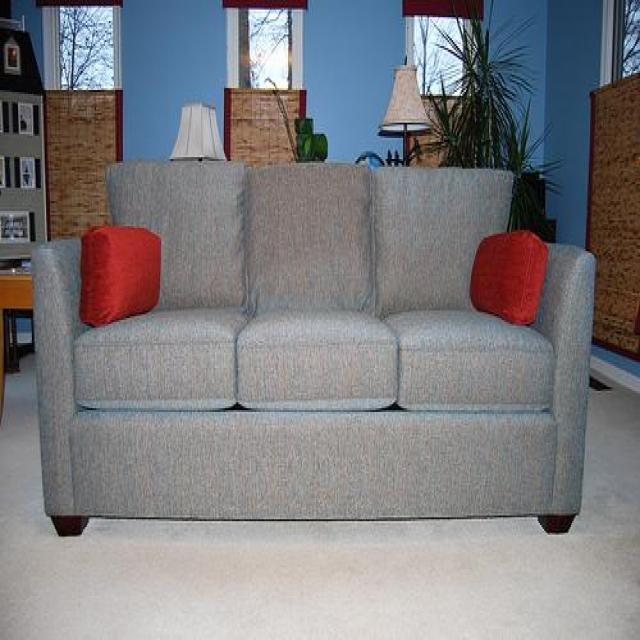sofa: (26, 155, 598, 537)
